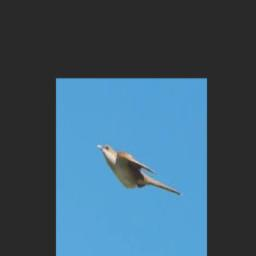Cuckoo: (96, 144, 182, 196)
